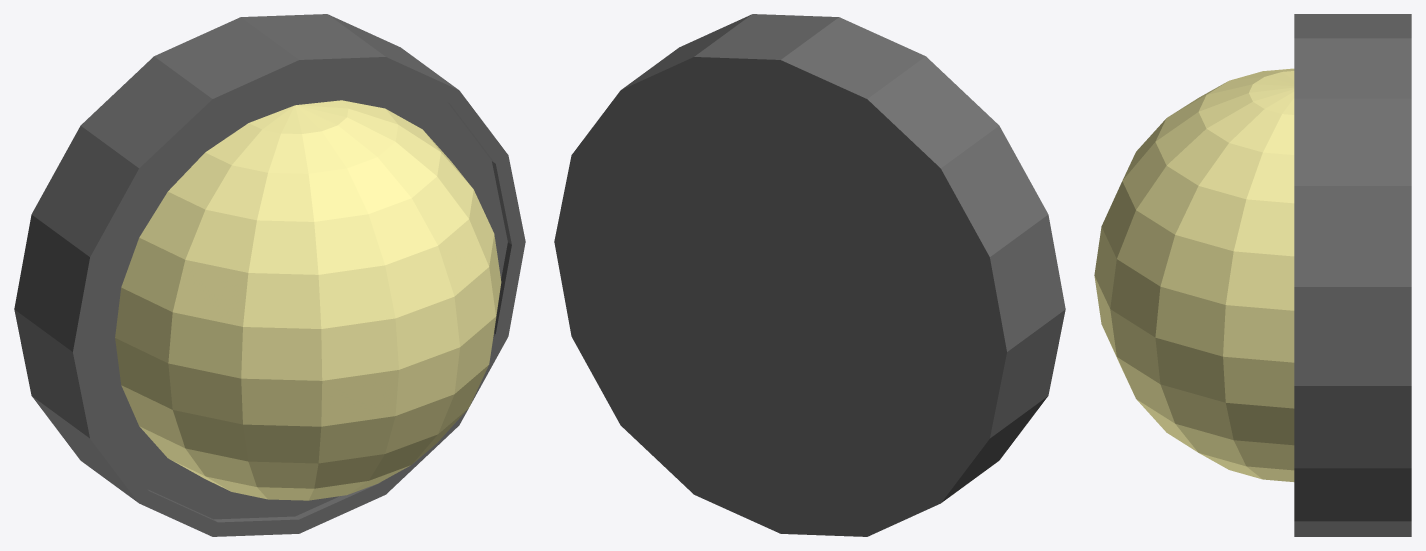
The model's file is light.fbx.
The picture shows the model from 3 angles, left to right: view 1: azimuth 30°, elevation 25°; view 2: azimuth 150°, elevation 25°; view 3: azimuth 270°, elevation 25°; orthographic projection.
Parts seen in each view (by area): view 1: Cylinder; view 2: Cylinder; view 3: Cylinder.
Part boxes in pixels (box(x1,y1,x2,y2)): Cylinder: box(14, 14, 525, 536); Cylinder: box(554, 14, 1065, 536); Cylinder: box(1094, 14, 1411, 536).
Size of the model in its own units: 61.92 by 61.92 by 37.52.
